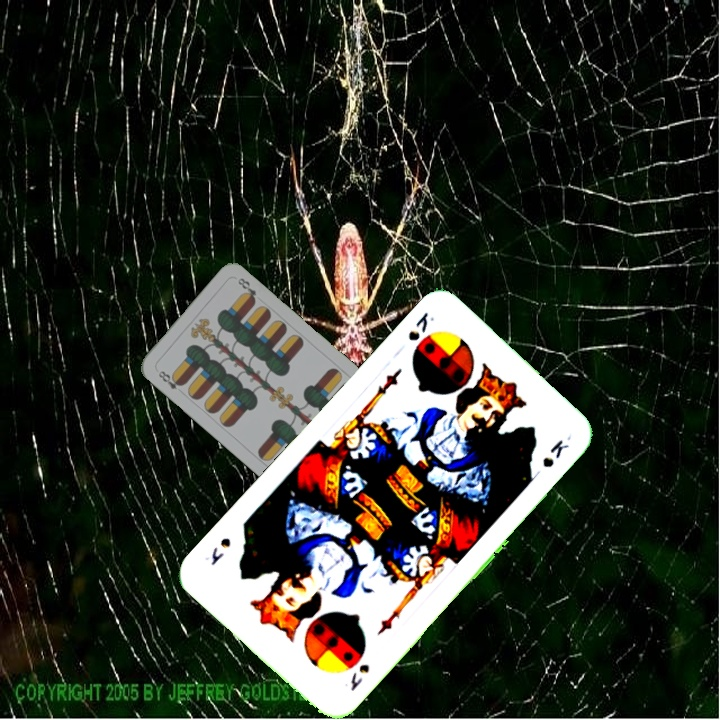E8: (154, 367, 186, 392)
SK: (403, 308, 437, 344), (346, 659, 372, 694)
